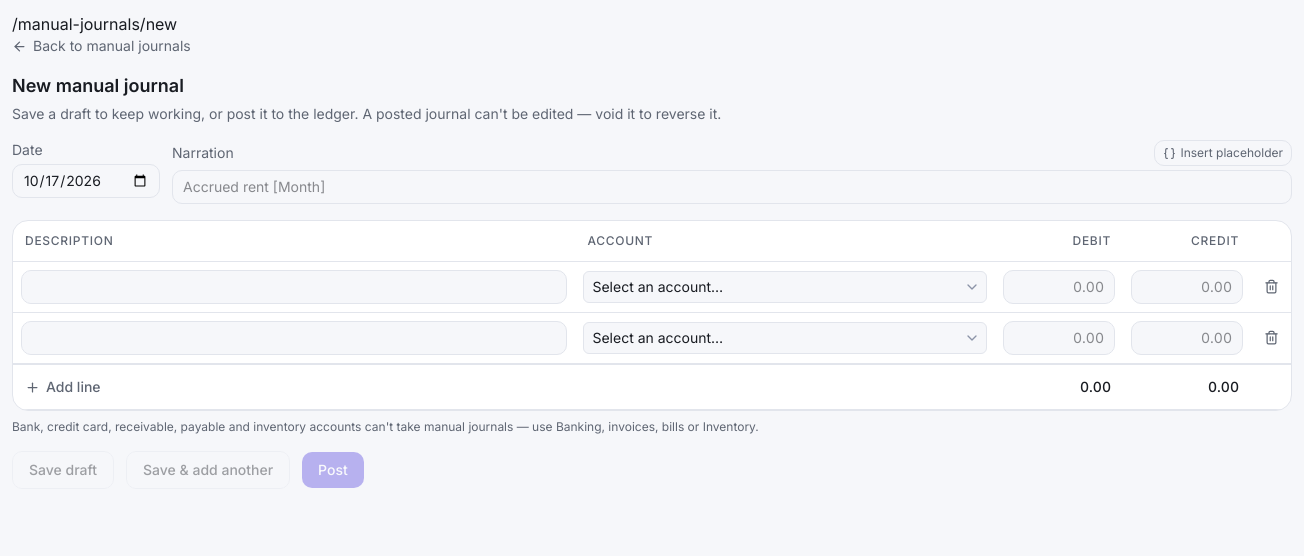
ManualJournalFormPage › Save & add another posts, clears narration and lines, keeps the date, and shows the posted message
In the date field labelled "Date": (86, 181) x1=12 y1=164 x2=160 y2=198, type "2026-09-30"
In the field labelled "Narration": (732, 187) x1=172 y1=170 x2=1292 y2=204, type "Accrued rent"
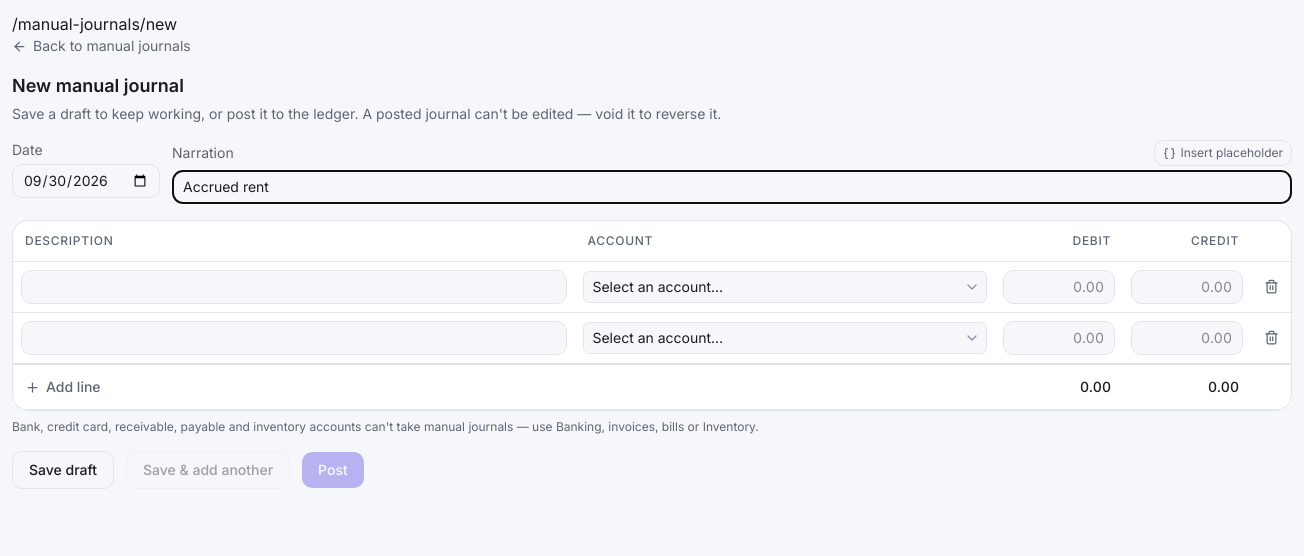
Select "6110 · Rent" in the dropdown named "Account for line 1": (785, 287) x1=583 y1=271 x2=987 y2=303
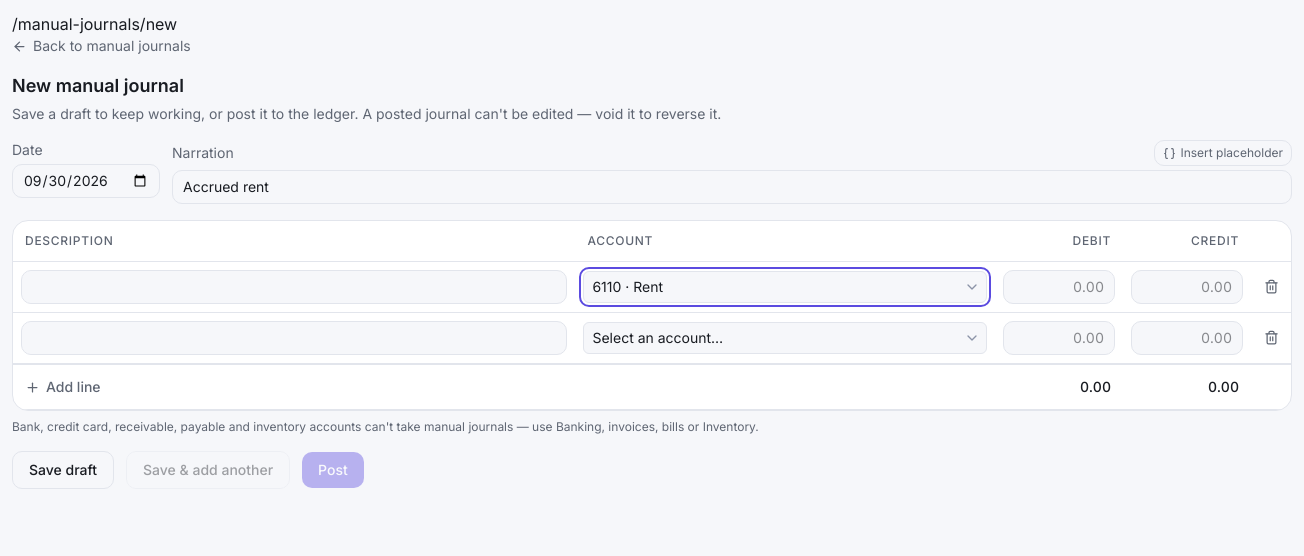
In the field named "Debit for line 1": (1059, 287) x1=1003 y1=270 x2=1115 y2=304, type "1200.00"
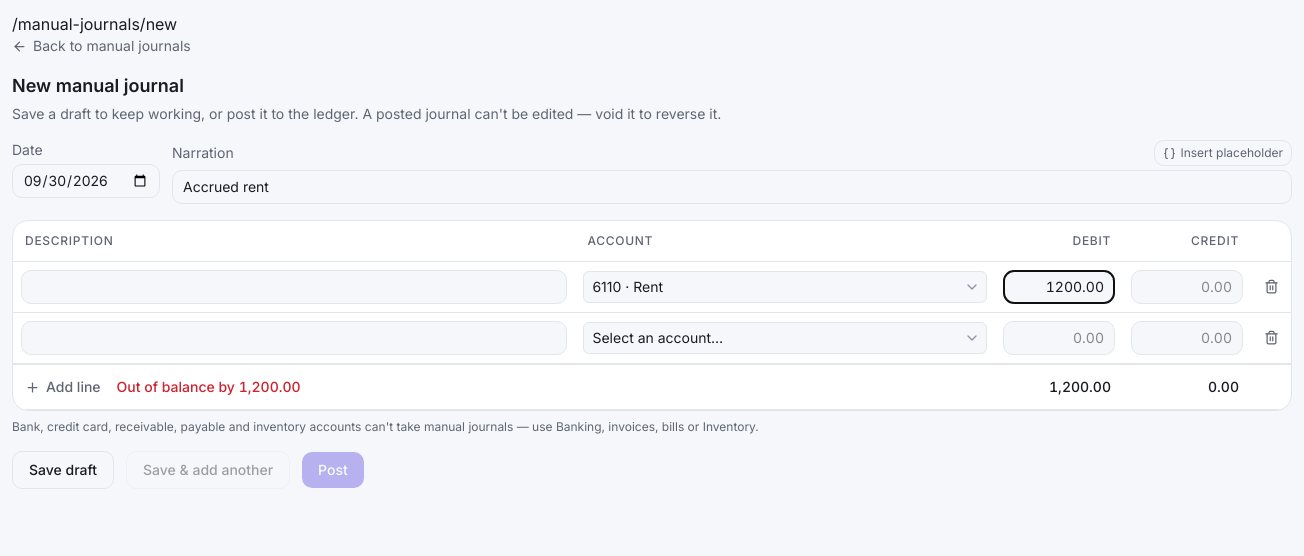
Select "2150 · Accruals" in the dropdown named "Account for line 2": (785, 338) x1=583 y1=322 x2=987 y2=354
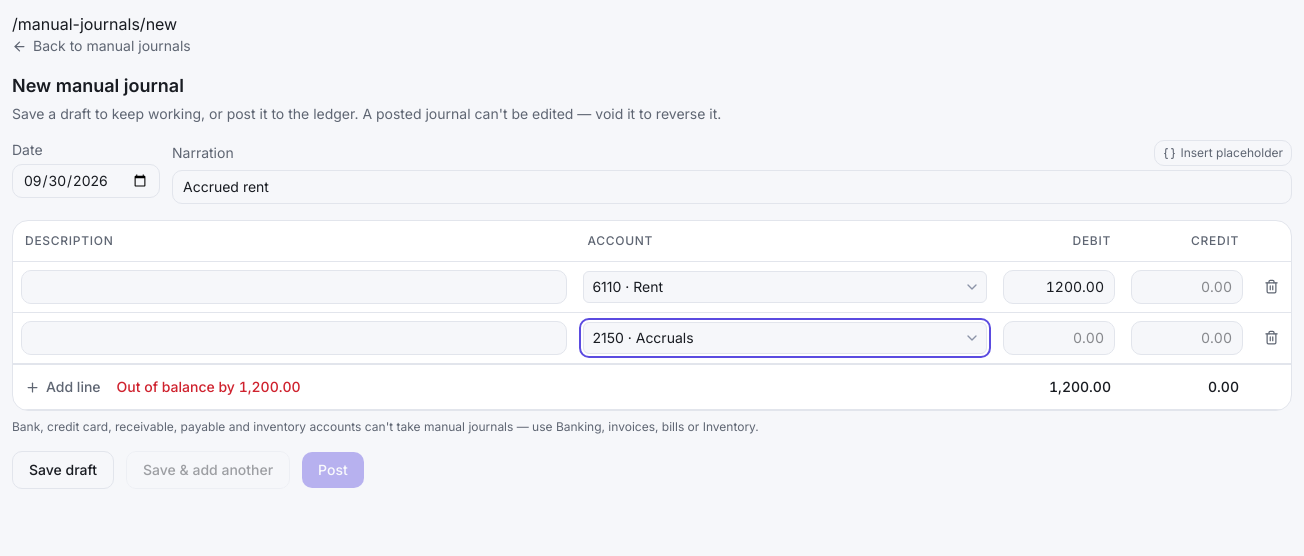
In the field named "Credit for line 2": (1187, 338) x1=1131 y1=321 x2=1243 y2=355, type "1200.00"
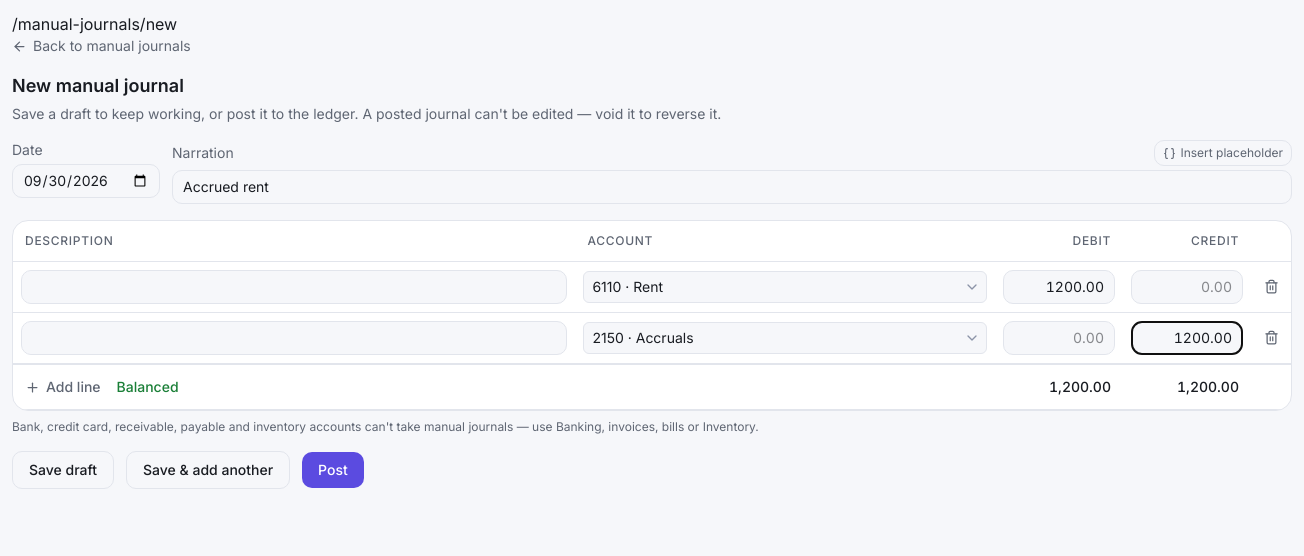
Click the button "Save & add another": (208, 470) x1=126 y1=451 x2=290 y2=489
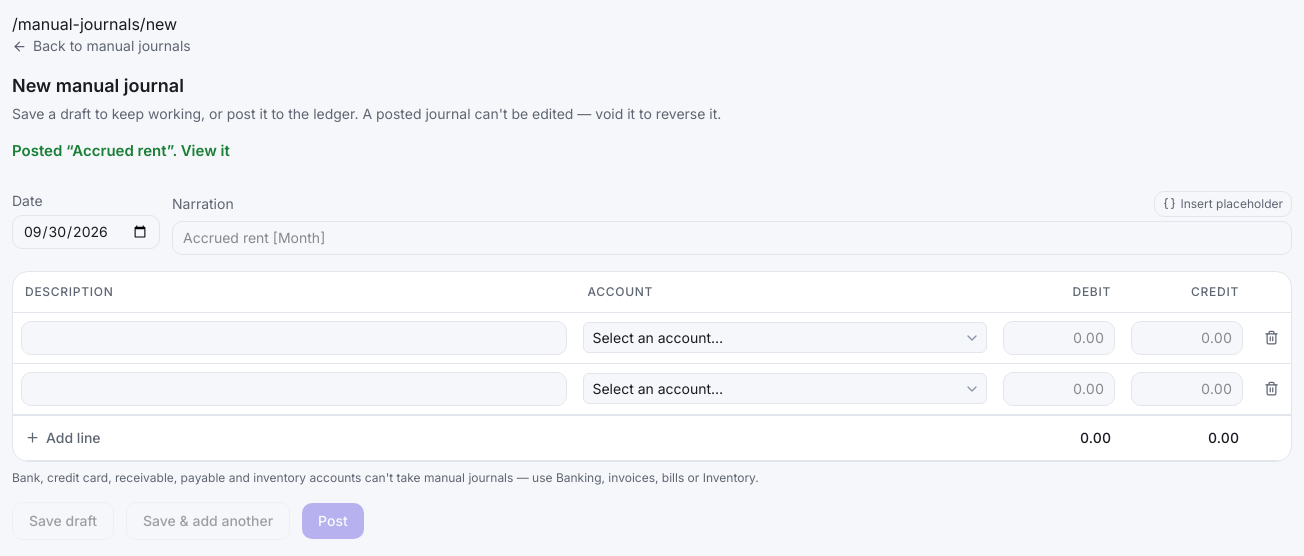
expect the field named "Debit for line 1" is empty: met, box x1=1003 y1=320 x2=1115 y2=354
expect the text "Posted “Accrued rent”. View it" is shown: met, box x1=12 y1=141 x2=230 y2=160
expect the field labelled "Narration" is empty: met, box x1=172 y1=220 x2=1292 y2=254
